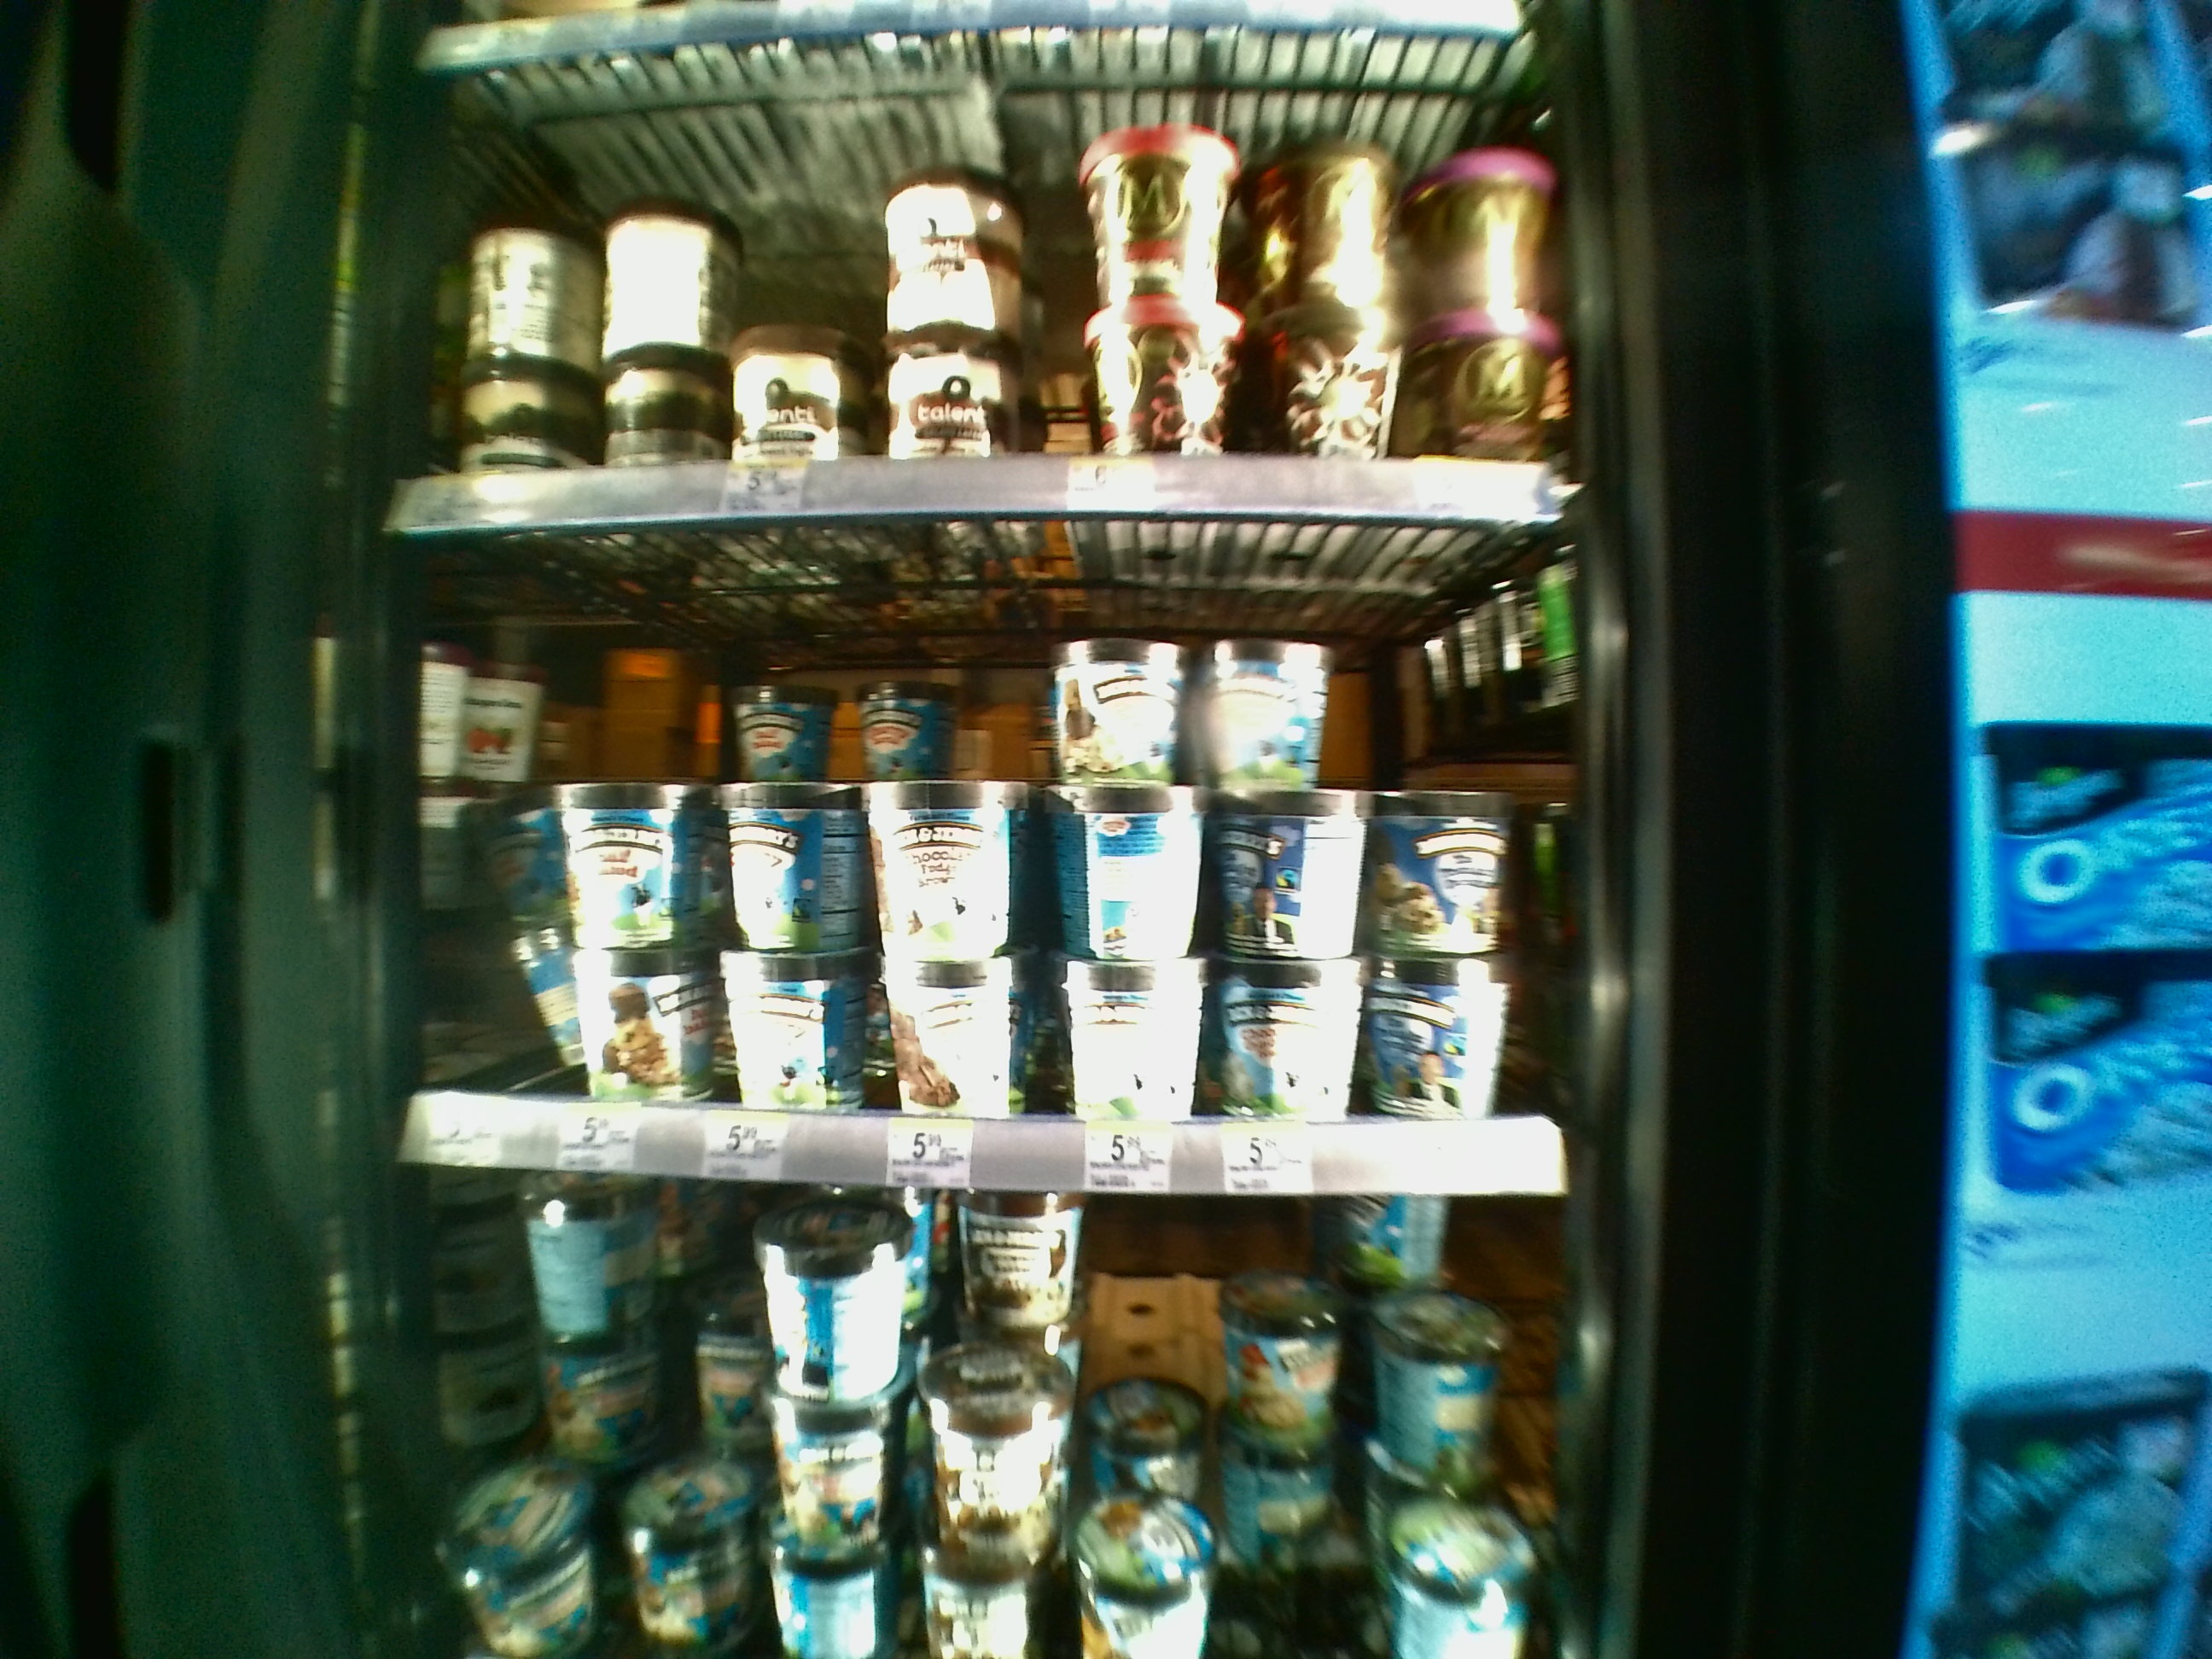shelf: (381, 538, 1581, 1201), (383, 28, 1588, 518)
